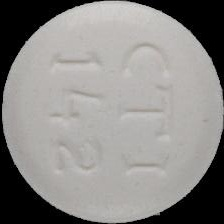42254-028: (0, 0, 224, 224)
